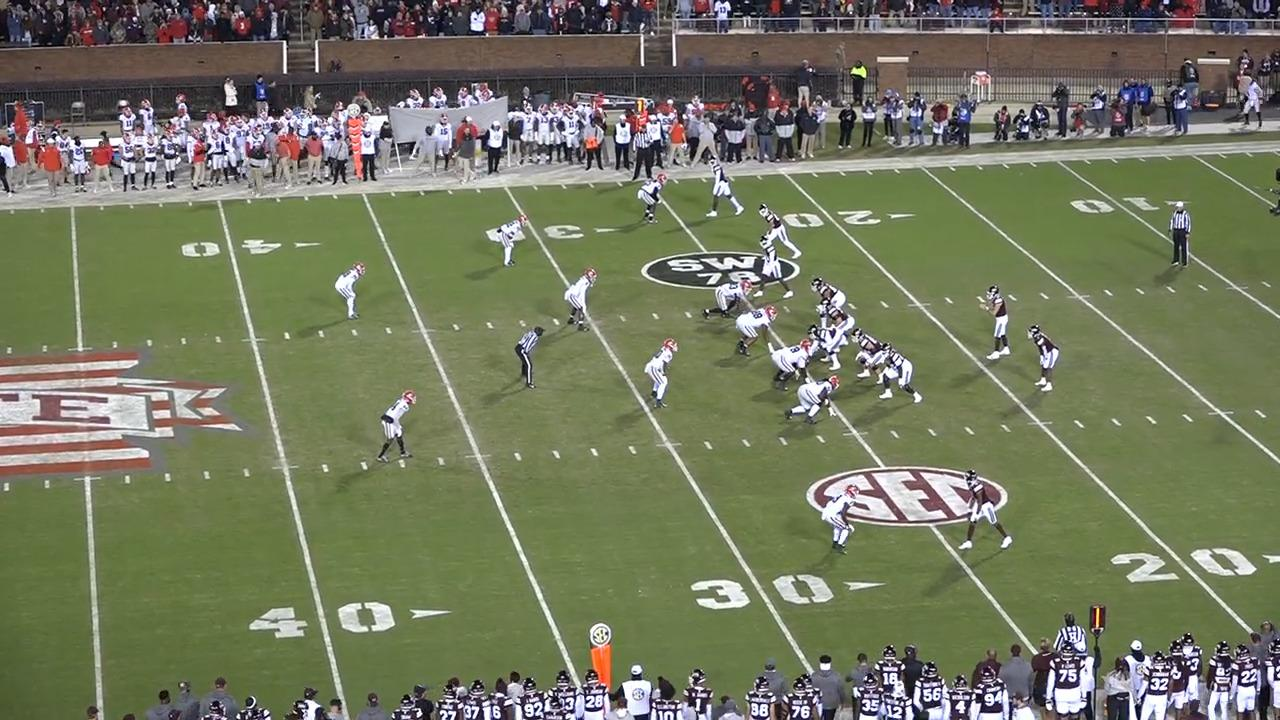player: (951, 467, 1012, 558), (375, 390, 417, 466), (879, 343, 926, 406), (818, 479, 856, 556), (787, 375, 843, 425), (749, 236, 790, 303), (758, 203, 803, 263), (978, 283, 1009, 365), (711, 159, 750, 222), (1031, 326, 1065, 397), (771, 342, 816, 395), (730, 306, 774, 359), (650, 337, 681, 411), (568, 265, 601, 332), (856, 326, 894, 383), (707, 280, 758, 322), (337, 259, 370, 321), (806, 323, 845, 370), (493, 212, 524, 267), (640, 172, 669, 227), (818, 300, 858, 331), (811, 276, 848, 307)
ref: (629, 121, 665, 183), (1165, 200, 1196, 269), (510, 327, 539, 393), (1055, 609, 1089, 658)
